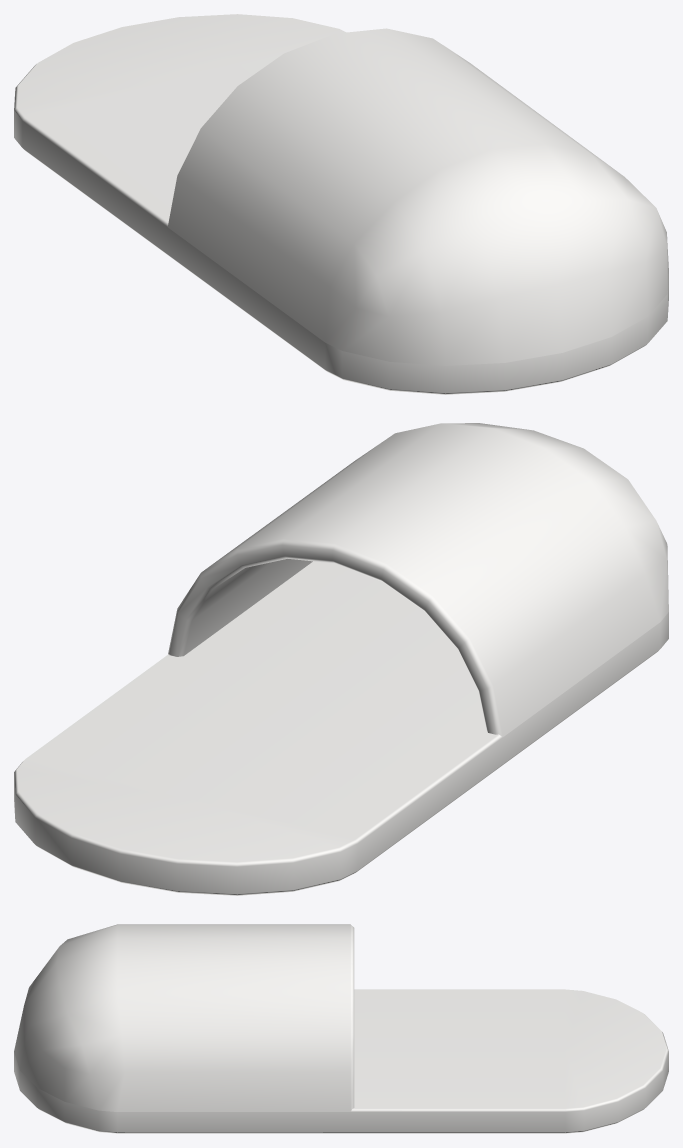
The model's file is Slipper_2.glb.
The picture shows the model from 3 angles, top to bottom: view 1: azimuth 30°, elevation 25°; view 2: azimuth 150°, elevation 25°; view 3: azimuth 270°, elevation 25°; orthographic projection. The views are drawn at different scales.
Parts seen in each view (by area): view 1: Slipper_2; view 2: Slipper_2; view 3: Slipper_2.
Part boxes in pixels (<box>): Slipper_2: <box>14,14,668,394</box>; Slipper_2: <box>14,423,668,895</box>; Slipper_2: <box>14,924,668,1133</box>.
Size of the model in its own units: 0.1433 by 0.0749 by 0.3276.
1 material, 1 textured.
